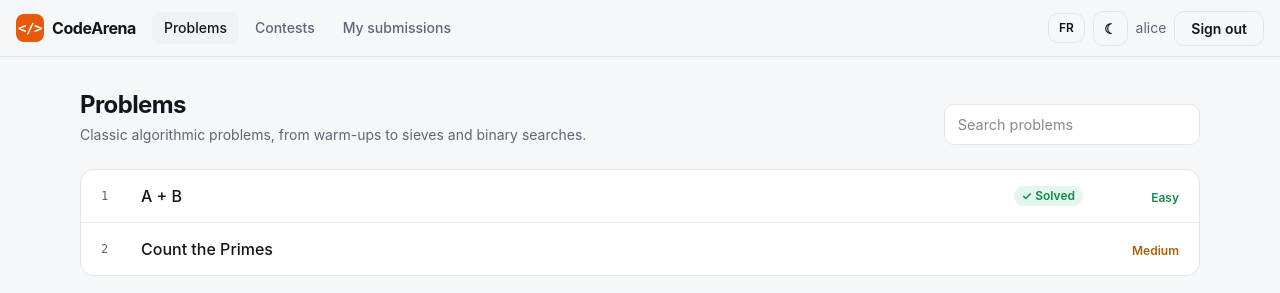
Problems › lists problems, marks solved ones and filters
Expected: the text "✓ Solved" is shown, [1014,186,1083,206]
Expected: the text "Medium" is shown, [1132,243,1179,258]
In the search field labelled "Search problems": (1072, 124) [944,104,1200,145], type "prime"
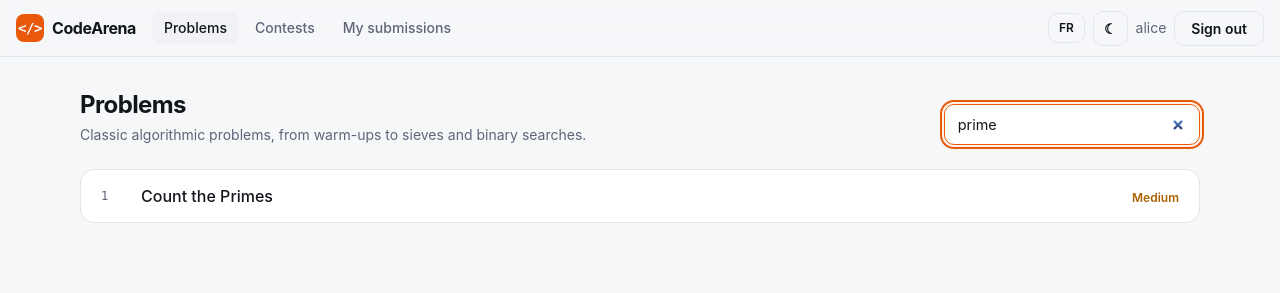
Expected: the text "Count the Primes" is shown, [141,186,273,206]
Result: the link "A + B" is gone
